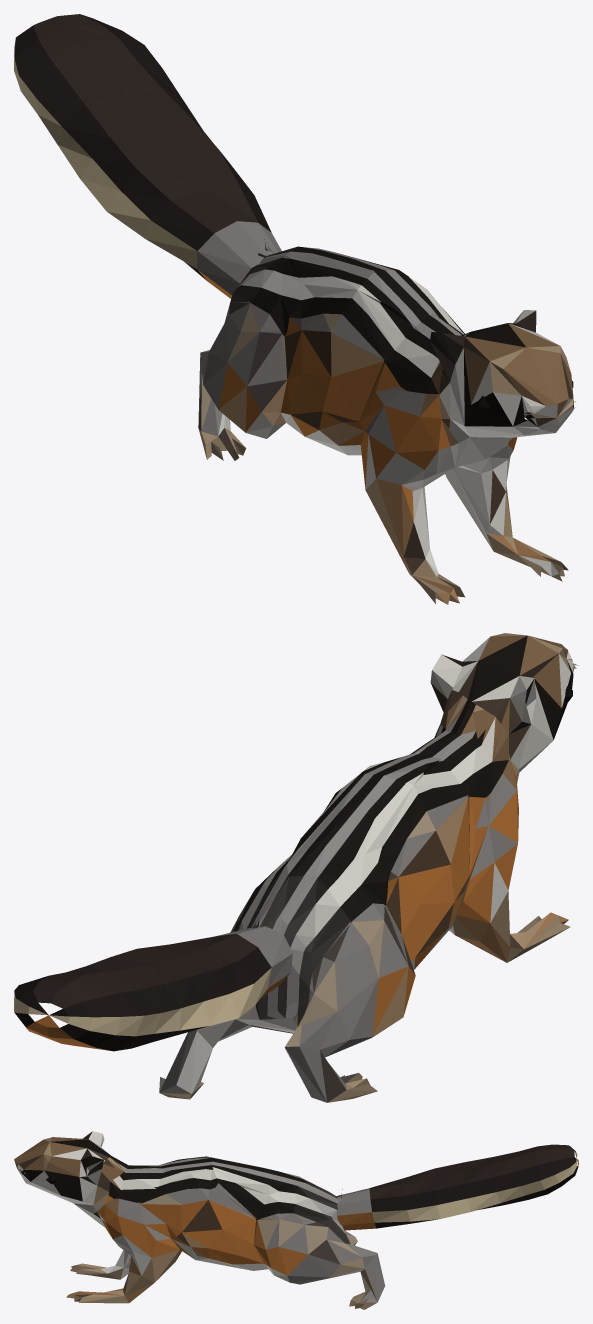
Rendered from yellow_pine_chipmunk.glb.
3 renders of one model, top to bottom at view 1: azimuth 30°, elevation 25°; view 2: azimuth 150°, elevation 25°; view 3: azimuth 270°, elevation 25°, orthographic. The views are drawn at different scales.
Parts seen in each view (by area): view 1: lod0; view 2: lod0; view 3: lod0.
Part boxes in pixels (bbox=[...]): lod0: bbox=[14, 14, 575, 604]; lod0: bbox=[14, 633, 578, 1102]; lod0: bbox=[14, 1131, 578, 1309].
Size of what is drawn, in the model's own units: 0.0392 by 0.0594 by 0.2062.
